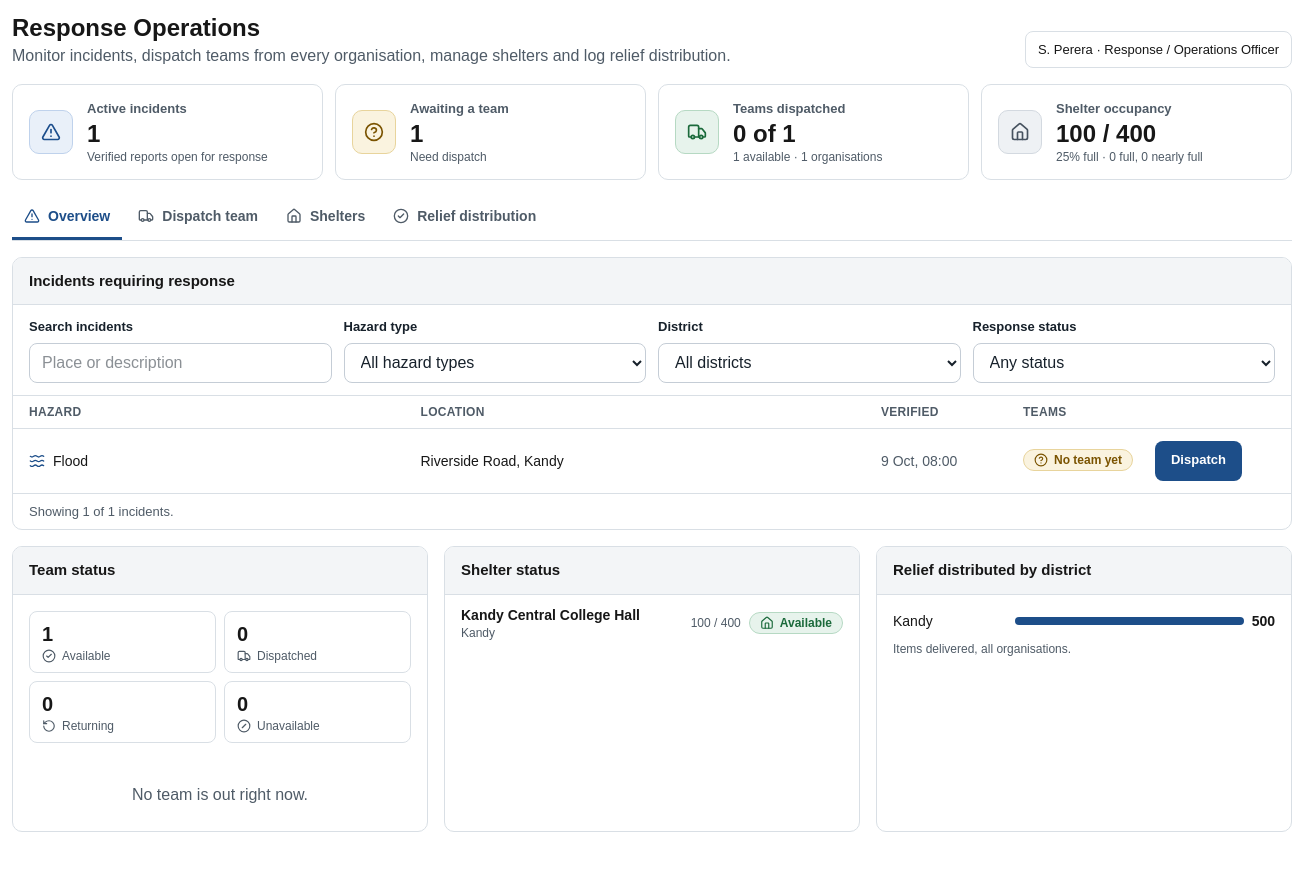
Scenario: Relief tab › names every missing field instead of sending the form
Expected: the text "Active incidents" is shown, [87, 101, 187, 116]
Click the tab "Relief distribution": x=465, y=218 [381, 196, 548, 240]
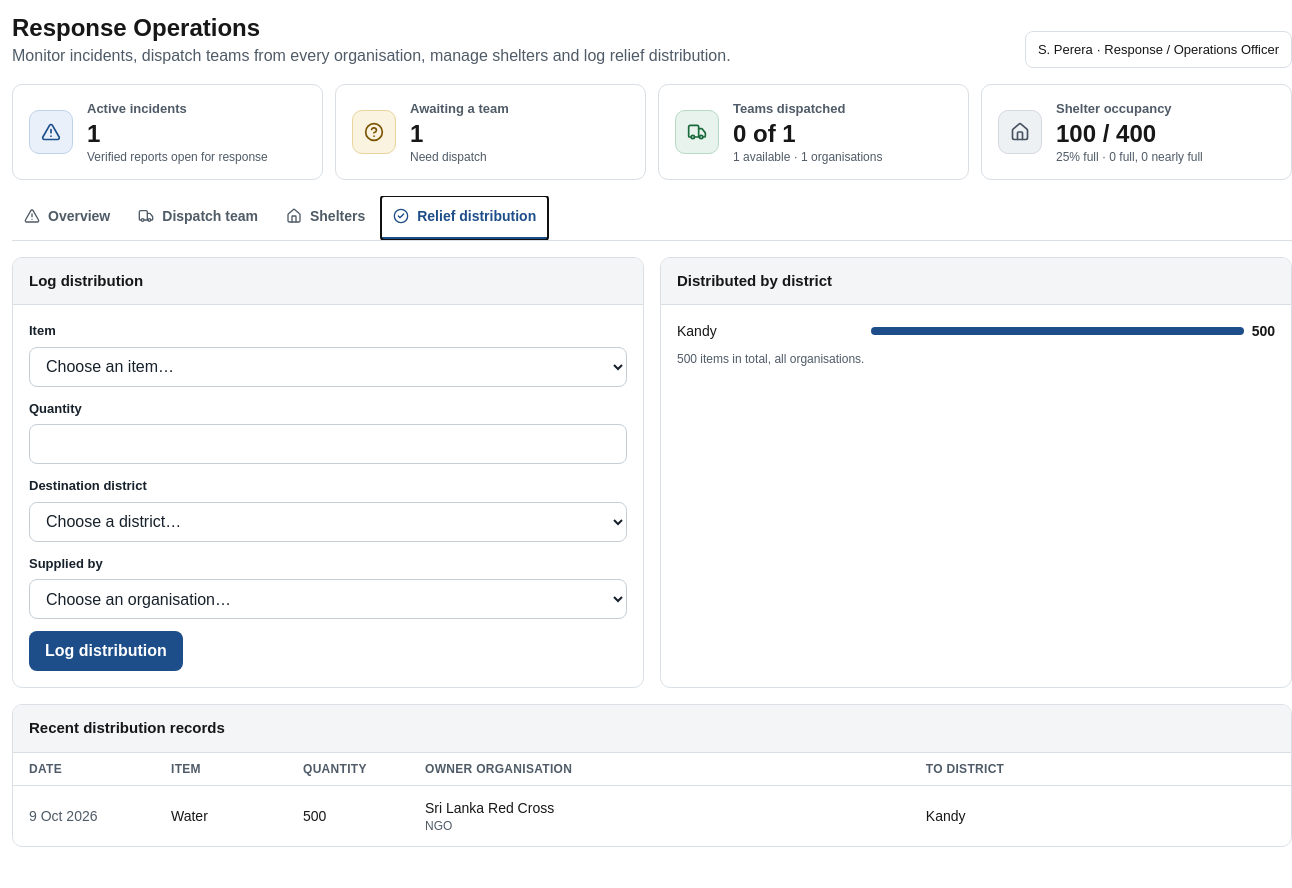
Click the button "Log distribution": x=106, y=651 [29, 631, 183, 671]
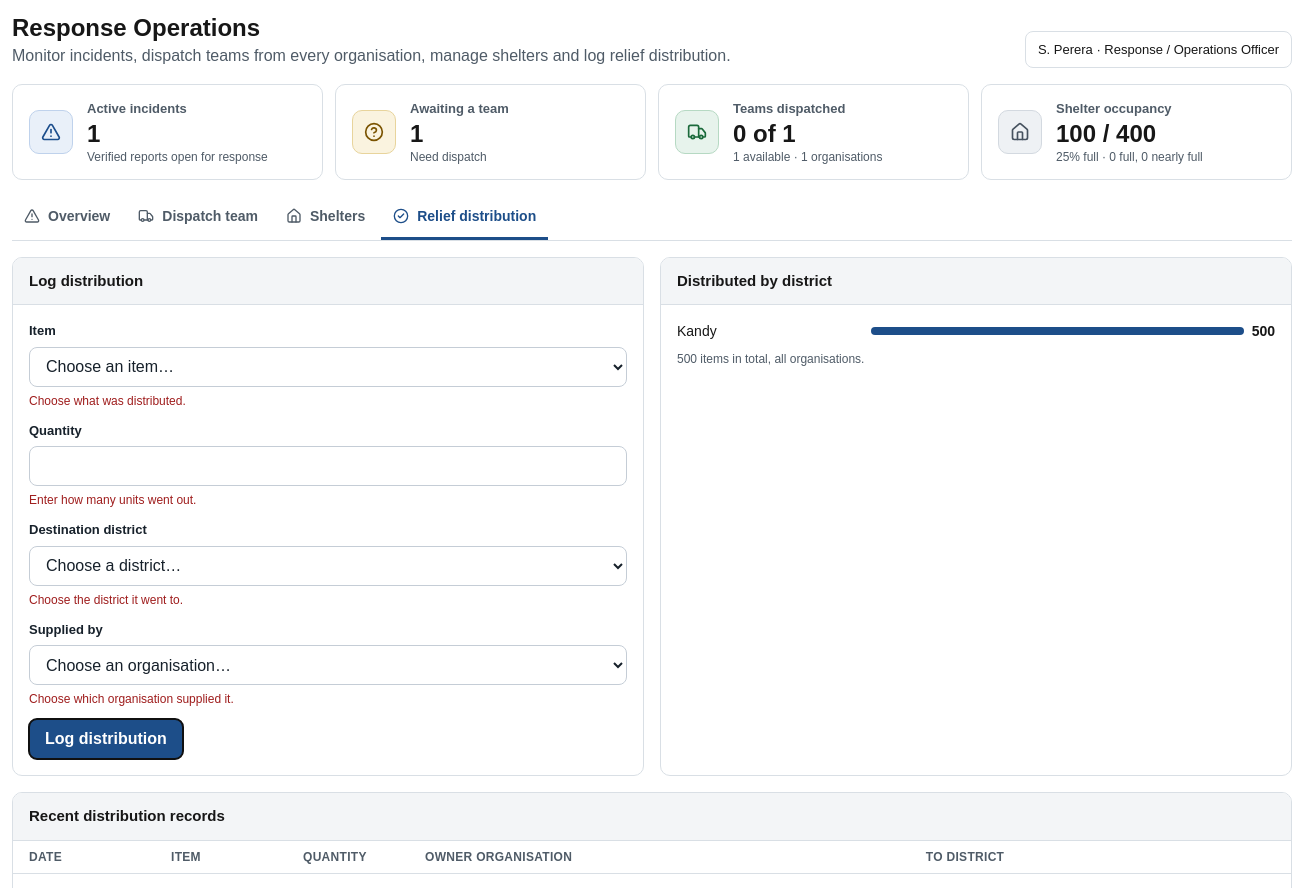
Now the text "Choose what was distributed." is shown, box [29, 394, 186, 408]
Now the text "Enter how many units went out." is shown, box [29, 493, 196, 507]
Now the text "Choose the district it went to." is shown, box [29, 592, 183, 606]
